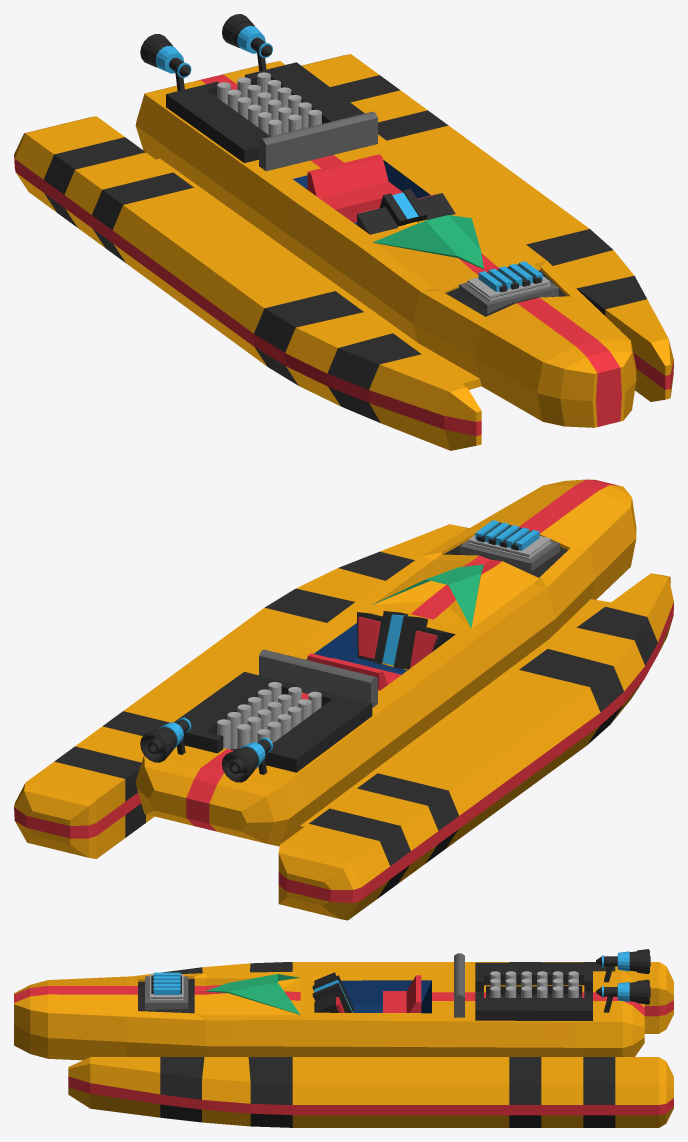
The model's file is Boat_05.glb.
3 views of the same model, one above another, from view 1: azimuth 30°, elevation 25°; view 2: azimuth 150°, elevation 25°; view 3: azimuth 270°, elevation 25° (orthographic). The views are drawn at different scales.
Visible parts, largest first — view 1: Boat 14; view 2: Boat 14; view 3: Boat 14.
Boxes of the visible parts, x1,y1,x2,y2 form: Boat 14: (14,14,673,450); Boat 14: (14,479,673,920); Boat 14: (14,949,673,1127).
Size of the model in its own units: 12.29 by 4.54 by 26.42.
Materials: 1 (1 with a texture image).
